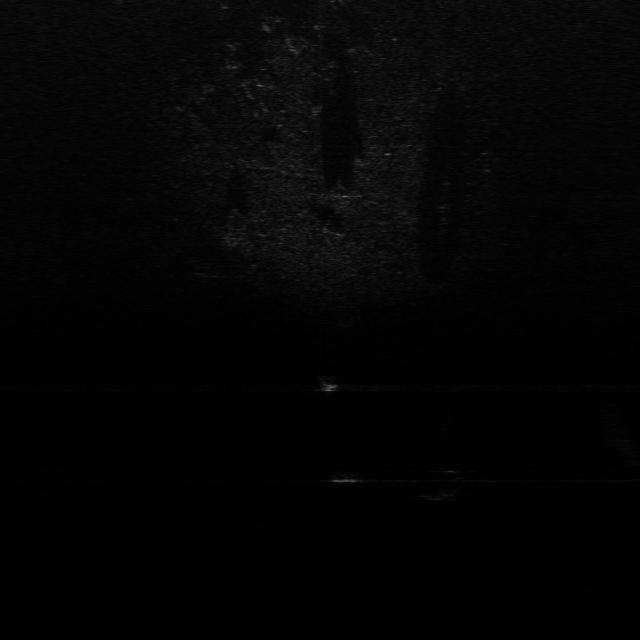cube: (323, 469, 363, 486)
square cage: (312, 373, 342, 394)
tyre: (414, 467, 470, 502)
